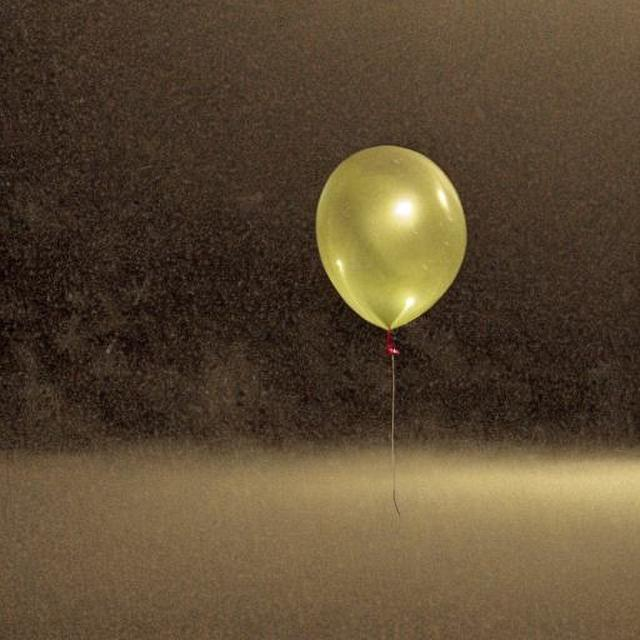balloon: (310, 138, 464, 348)
